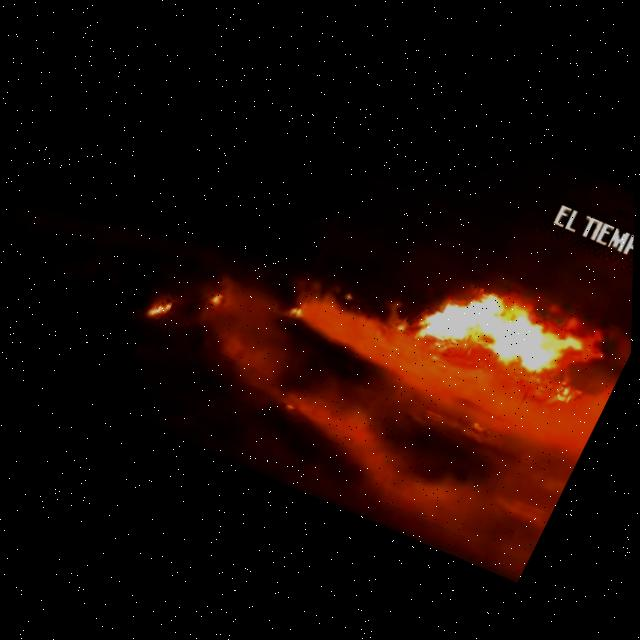Fire: (399, 253, 618, 431), (147, 297, 174, 326), (207, 287, 228, 310), (293, 306, 306, 318), (343, 296, 354, 306), (397, 327, 405, 336)
Smoke: (211, 320, 564, 601), (297, 285, 604, 480), (175, 267, 286, 378)
